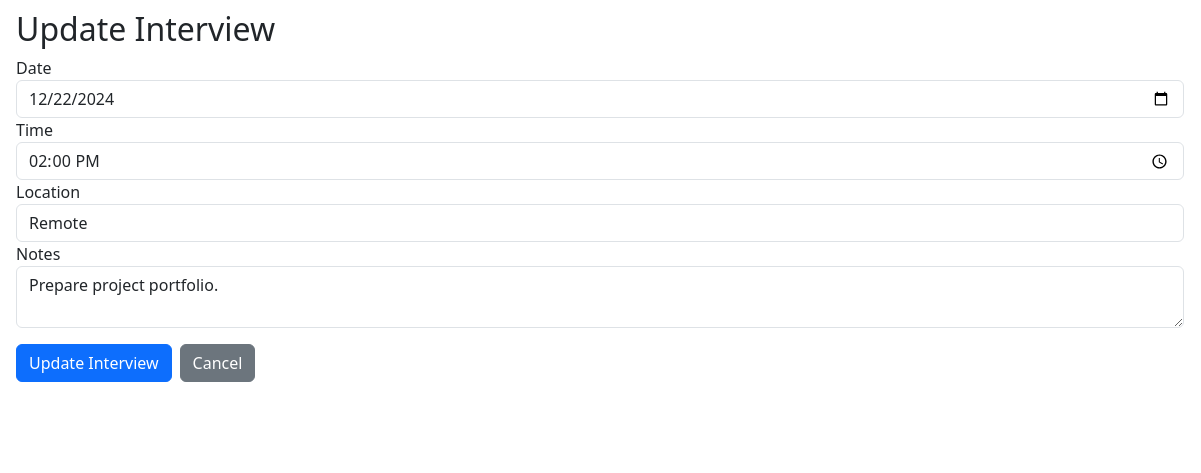
it: InterviewUpdateForm Component › displays success message after successful update
The image size is (1201, 473).
Click the button "Update Interview": point(94, 363) [16,344,172,382]
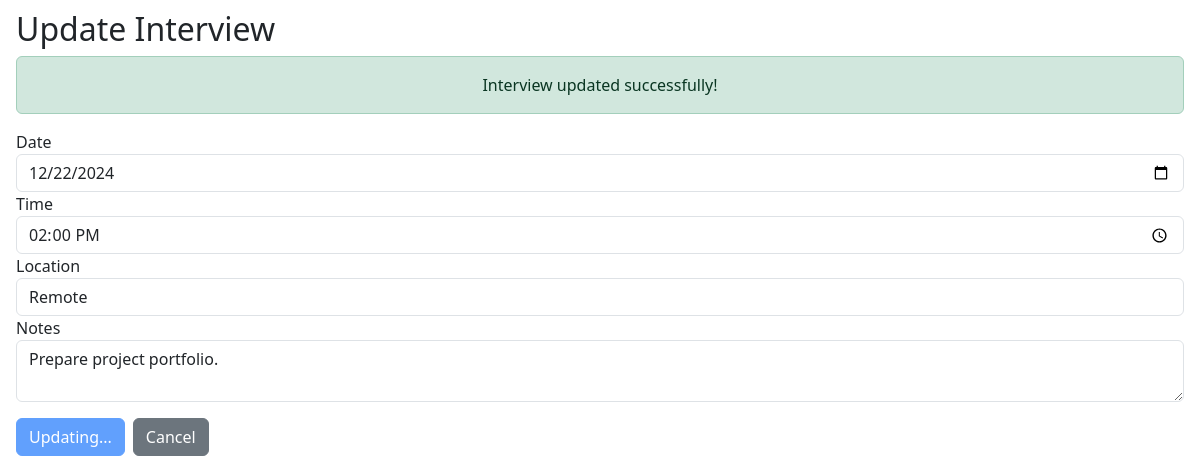
Check: the text "Interview updated successfully!" is shown, box [16,56,1184,114]
